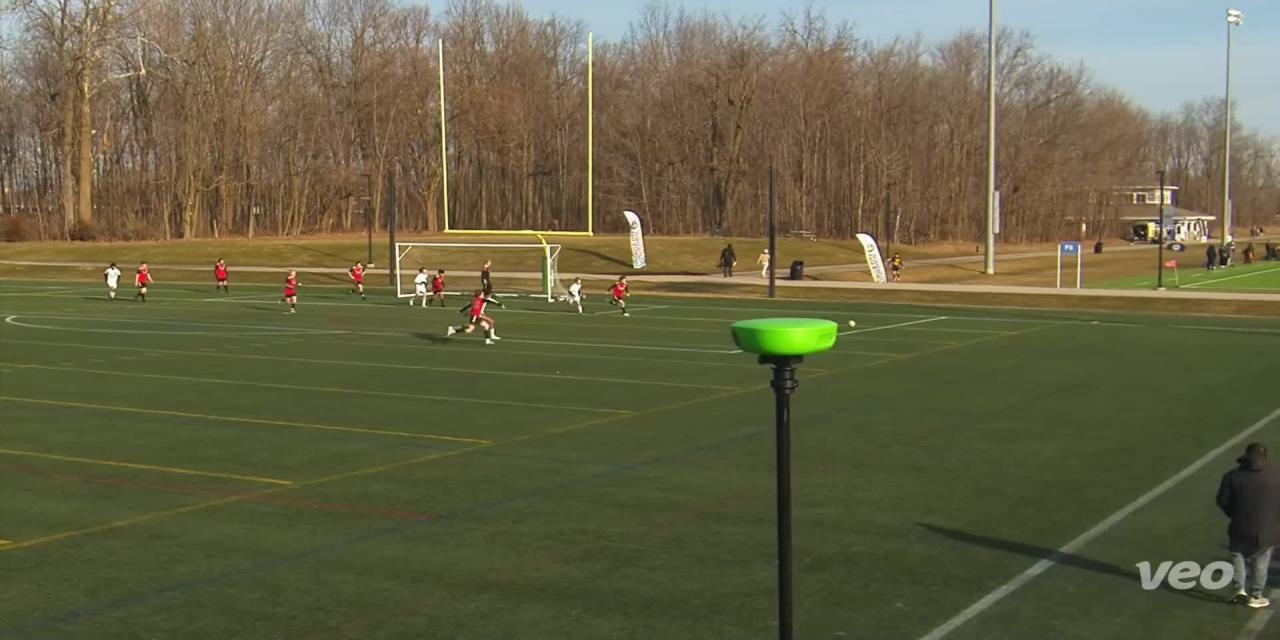sports ball: (847, 318, 856, 328)
